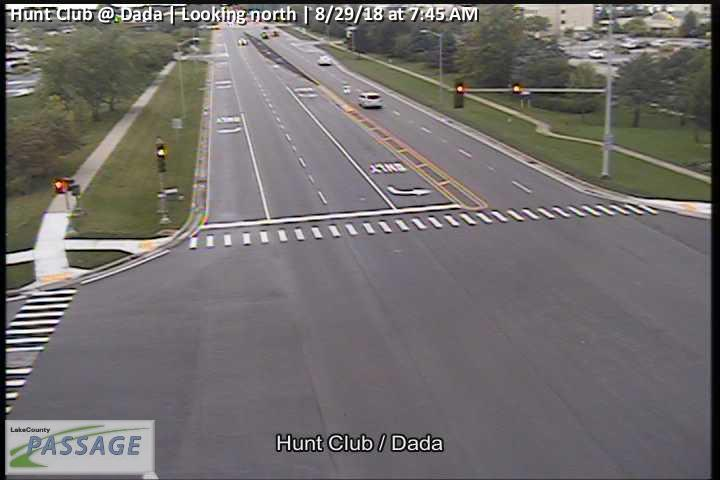Sedan: (358, 92, 384, 108), (317, 55, 332, 65)
